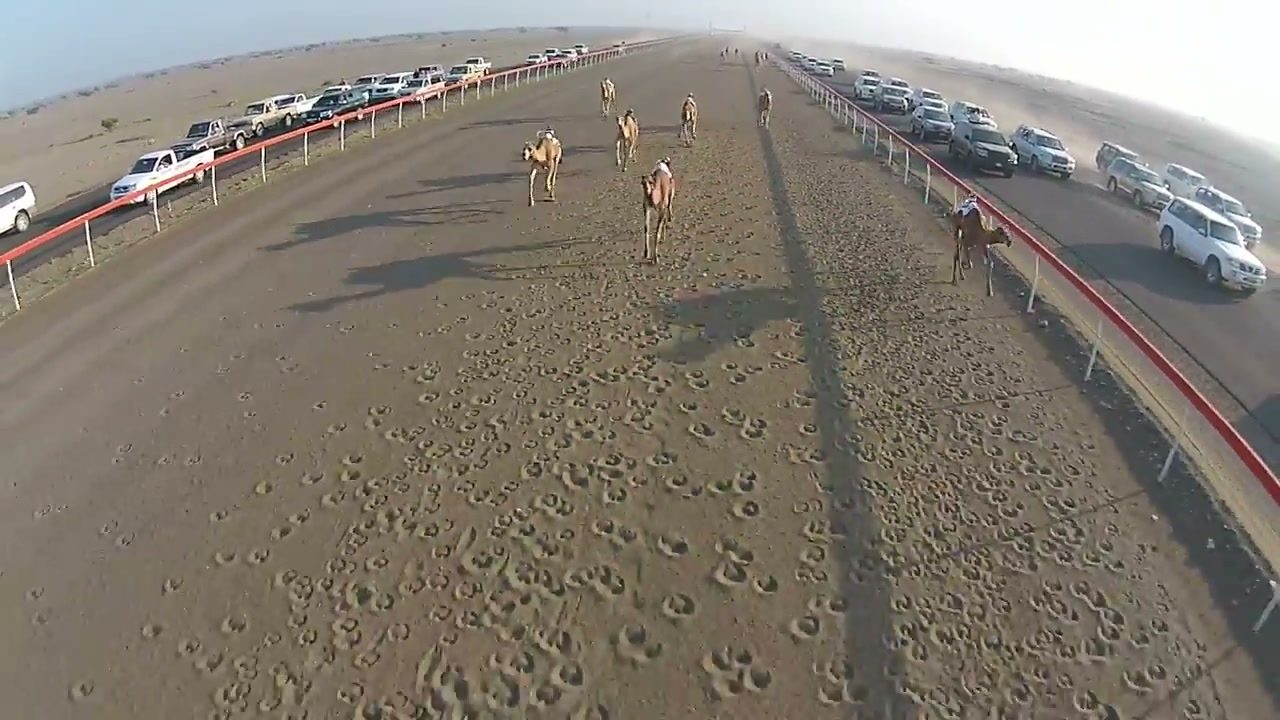animal_footprint: (44, 118, 1228, 719), (767, 282, 1151, 669), (841, 369, 1120, 666), (410, 626, 592, 715), (344, 673, 520, 718), (650, 466, 769, 517), (286, 621, 411, 668), (484, 574, 566, 641), (353, 470, 438, 522), (214, 637, 269, 711), (701, 646, 773, 699), (488, 493, 566, 541), (418, 652, 479, 713), (710, 538, 772, 590), (396, 482, 452, 536), (530, 660, 587, 711), (812, 655, 869, 705), (788, 593, 848, 640), (791, 497, 846, 541), (564, 564, 627, 600), (611, 624, 665, 666), (517, 526, 577, 560), (530, 626, 584, 660), (488, 646, 542, 677), (458, 544, 509, 576), (396, 569, 449, 597), (456, 481, 515, 506), (427, 604, 485, 629), (1122, 663, 1167, 694), (590, 452, 638, 481), (707, 468, 758, 495), (270, 508, 311, 541), (1071, 688, 1119, 716), (549, 659, 588, 693), (795, 542, 827, 582), (567, 418, 616, 444), (714, 536, 755, 565), (661, 592, 697, 624), (532, 492, 576, 517), (662, 472, 704, 498), (481, 414, 510, 449), (807, 593, 848, 617), (540, 427, 581, 451), (780, 443, 826, 464), (569, 700, 619, 719), (721, 362, 762, 385), (381, 424, 426, 444), (192, 649, 226, 675), (1179, 693, 1212, 719), (403, 362, 440, 385), (788, 614, 822, 639), (654, 535, 689, 558), (291, 620, 320, 646), (732, 468, 761, 493), (336, 681, 366, 705), (600, 483, 630, 505), (731, 499, 762, 519), (739, 418, 767, 440), (588, 368, 626, 384), (787, 388, 816, 408), (519, 460, 546, 481), (644, 451, 677, 468), (219, 615, 247, 635), (750, 575, 779, 594), (68, 681, 95, 701), (177, 637, 202, 658), (320, 489, 347, 508), (686, 370, 711, 390), (645, 377, 672, 395), (688, 422, 716, 439), (338, 463, 363, 482), (275, 355, 301, 373), (245, 547, 270, 565), (366, 353, 391, 371), (772, 349, 804, 363), (721, 408, 747, 425), (299, 471, 327, 486), (212, 550, 238, 566), (140, 622, 163, 640), (110, 444, 130, 464), (161, 577, 183, 595), (114, 532, 136, 549), (324, 422, 347, 438), (416, 390, 439, 405), (341, 452, 364, 467), (209, 509, 232, 523), (155, 453, 176, 467), (677, 400, 698, 414), (254, 480, 273, 495), (115, 442, 133, 457), (275, 452, 295, 465), (734, 334, 754, 347), (463, 331, 484, 342), (799, 423, 818, 435), (767, 359, 786, 370), (237, 391, 253, 403), (311, 400, 327, 411), (170, 389, 185, 399)
